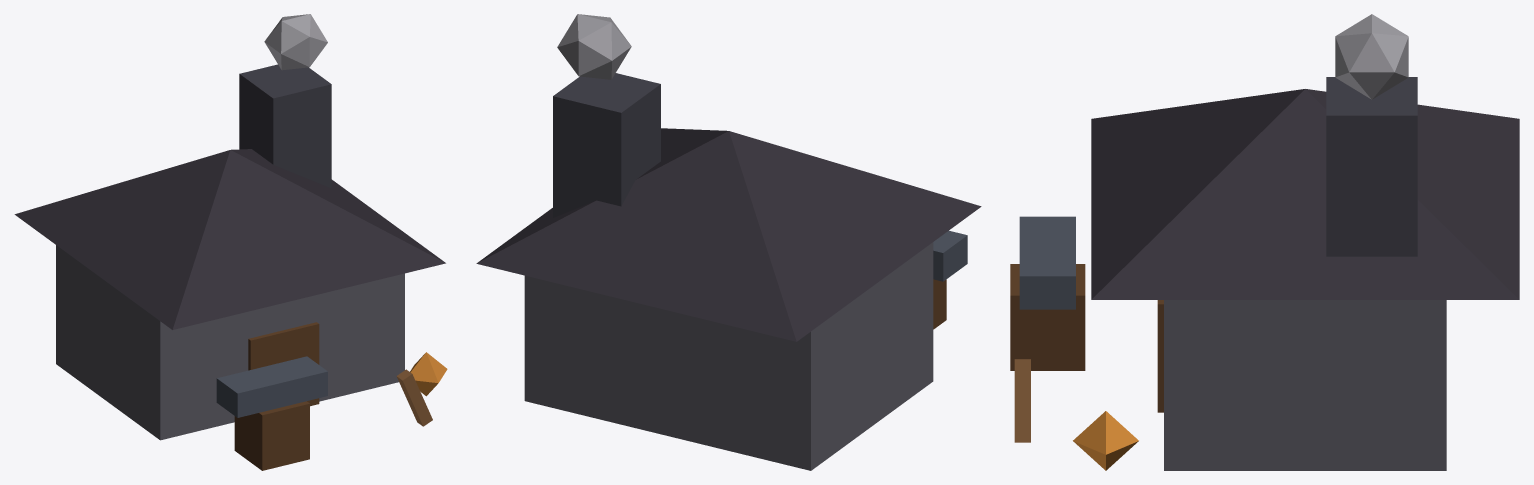
Rendered from smithy.glb.
3 renders of one model, left to right at view 1: azimuth 30°, elevation 25°; view 2: azimuth 150°, elevation 25°; view 3: azimuth 270°, elevation 25°, orthographic. The views are drawn at different scales.
Visible parts, largest first — view 1: smithy; view 2: smithy; view 3: smithy.
Boxes of the visible parts, bbox=[...] form: smithy: bbox=[14, 14, 447, 470]; smithy: bbox=[476, 14, 981, 470]; smithy: bbox=[1010, 14, 1519, 470].
Size of the model in its own units: 0.2638 by 0.2829 by 0.3063.
